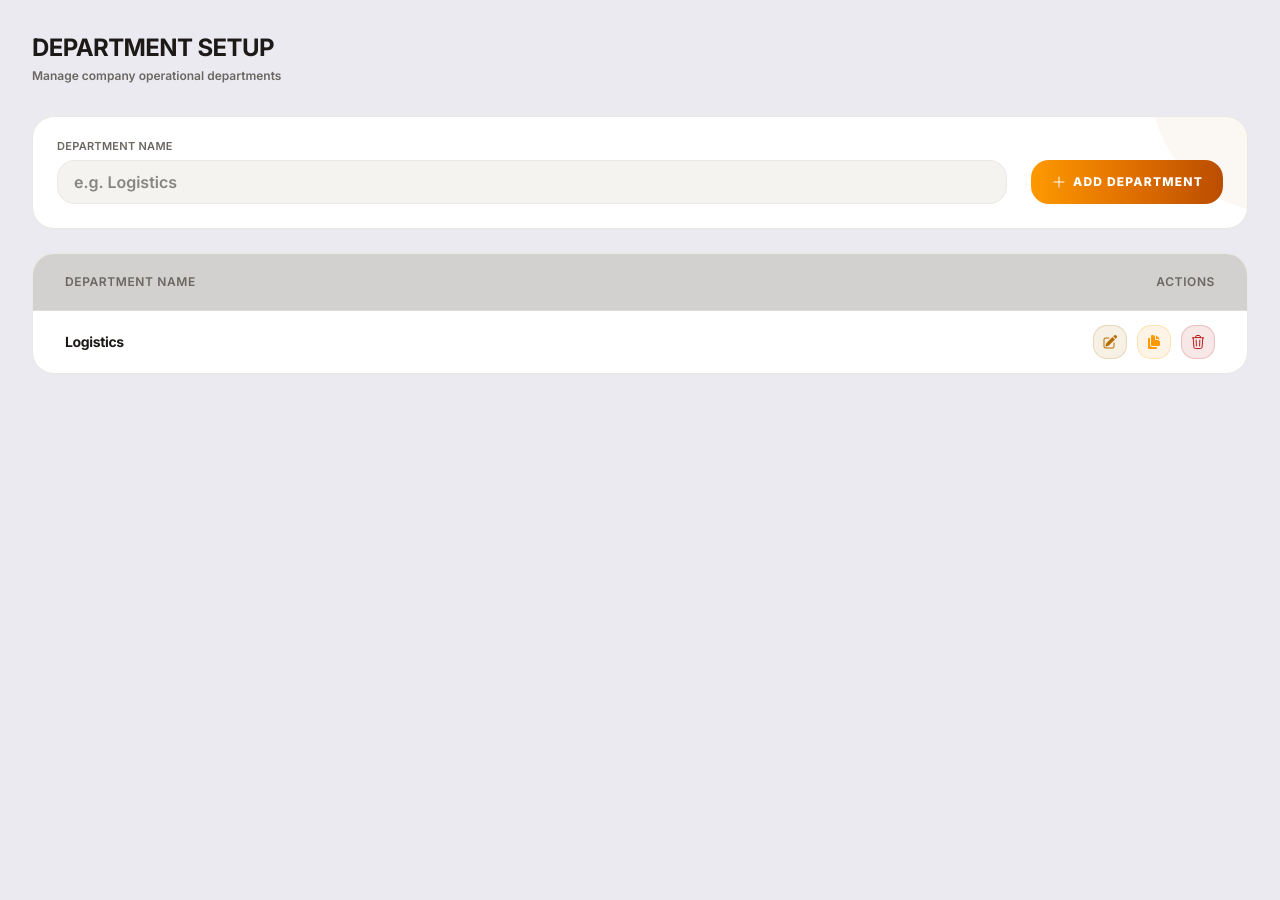
DepartmentsPage delete impact warnings › blocks deletion and displays active employees when delete impact contains active employee references
Expected: the text "Logistics" is shown, [65,333,124,350]
Click delete button
Click the button titled "Delete".
click(1198, 342)  # box [1181,325,1215,359]
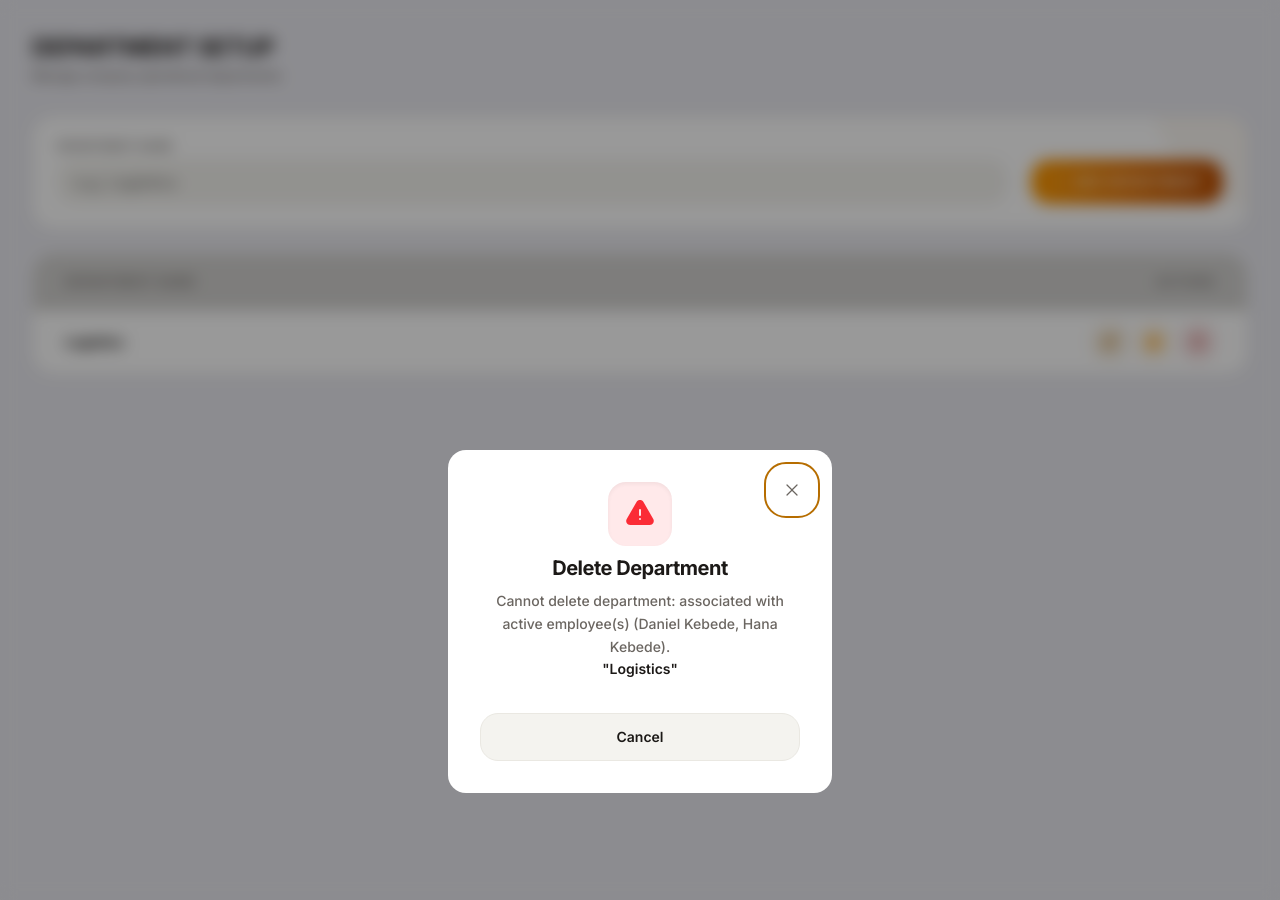
Now the text "Cannot delete department: associated with active employee(s) (Daniel Kebede, Hana Kebede)" is shown, box [496,592,784,654]
